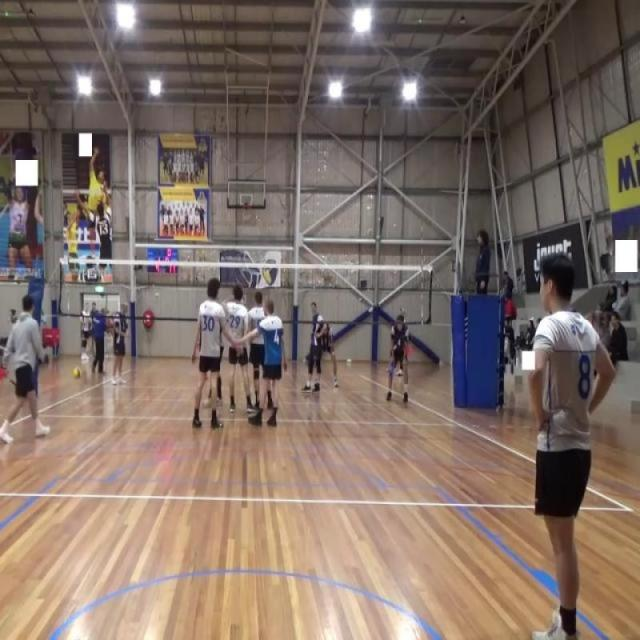volleyball: (72, 366, 82, 380)
